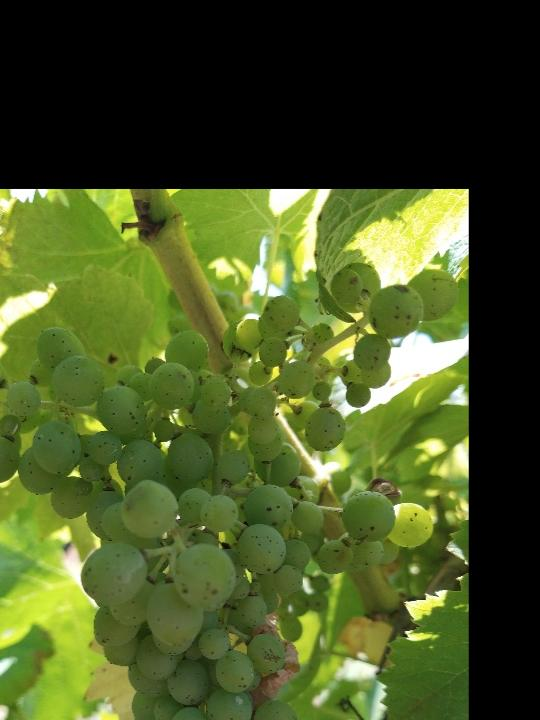grape: (0, 264, 458, 720)
